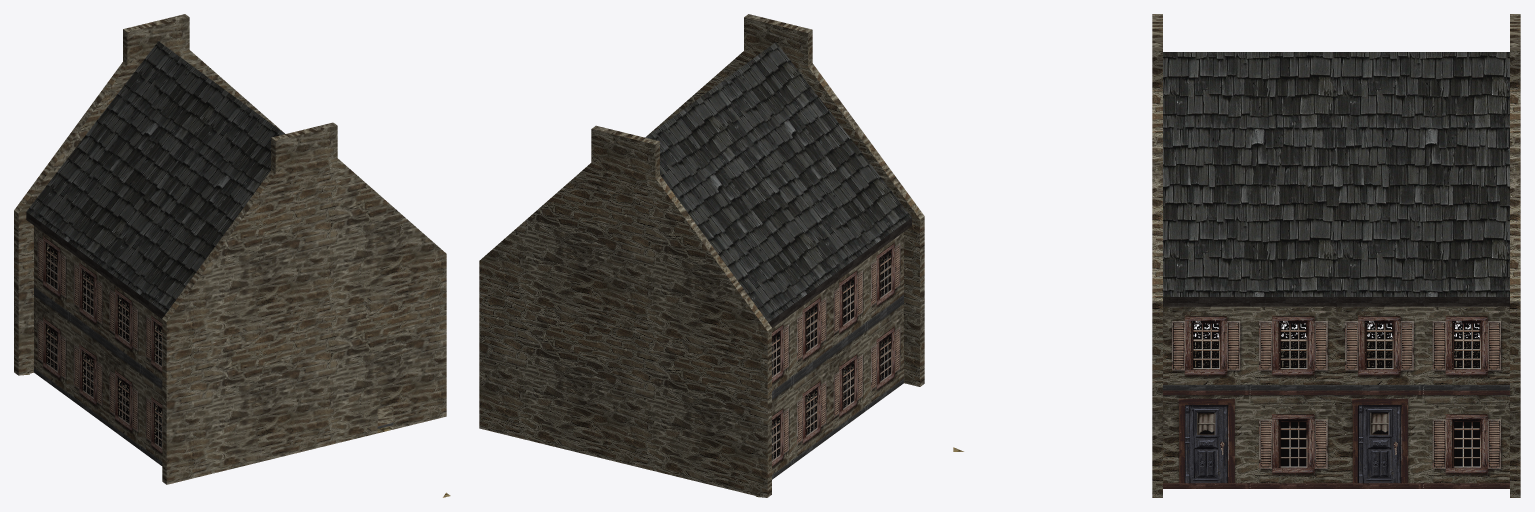
File: Townhouse_03.dae
The picture shows the model from 3 angles, left to right: view 1: azimuth 30°, elevation 25°; view 2: azimuth 150°, elevation 25°; view 3: azimuth 270°, elevation 25°; orthographic projection. The views are drawn at different scales.
Visible parts, largest first — view 1: BSP.004; view 2: BSP.004; view 3: BSP.004.
Part boxes in pixels (left/top/right/bottom): BSP.004: left=14, top=14, right=450, bottom=497; BSP.004: left=479, top=14, right=924, bottom=497; BSP.004: left=953, top=14, right=1520, bottom=497.
Bounding box in the file's own units: 10.8 × 15.71 × 11.74.
